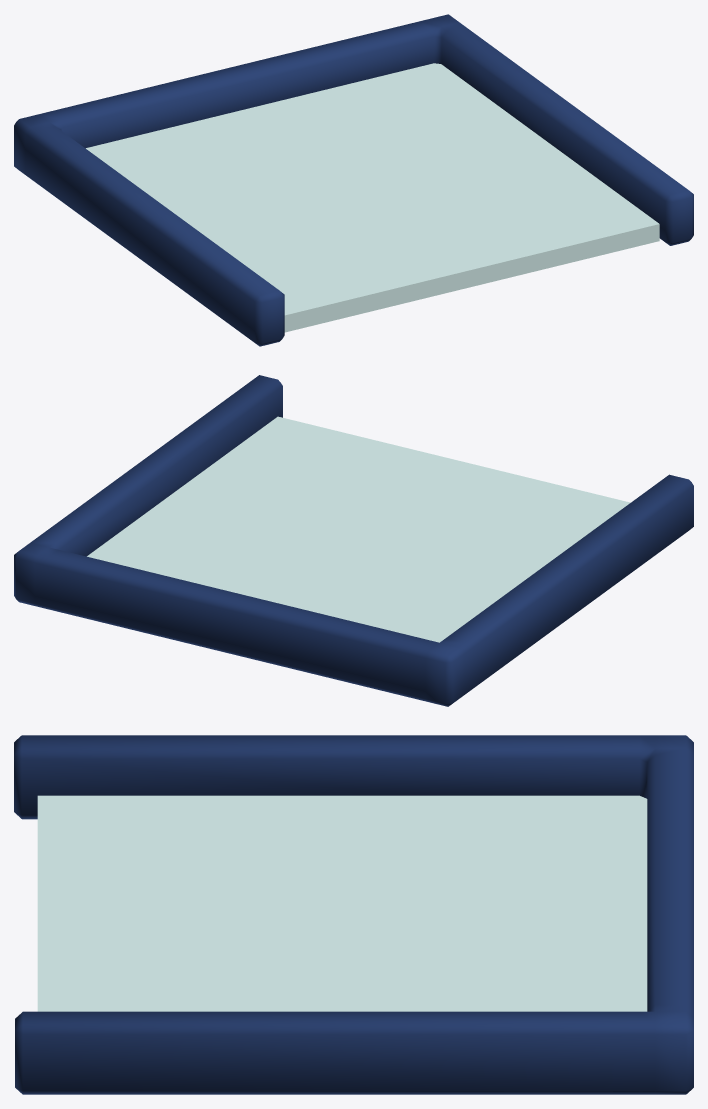
The model's file is StoragePlane.fbx.
The picture shows the model from 3 angles, top to bottom: view 1: azimuth 30°, elevation 25°; view 2: azimuth 150°, elevation 25°; view 3: azimuth 270°, elevation 25°; orthographic projection. The views are drawn at different scales.
Visible parts, largest first — view 1: Cube.002; view 2: Cube.002; view 3: Cube.002.
Boxes of the visible parts, <box> form: Cube.002: <box>14,14,693,346</box>; Cube.002: <box>14,375,693,706</box>; Cube.002: <box>14,735,693,1094</box>.
Size of the model in its own units: 2.29 by 0.2556 by 2.23.
